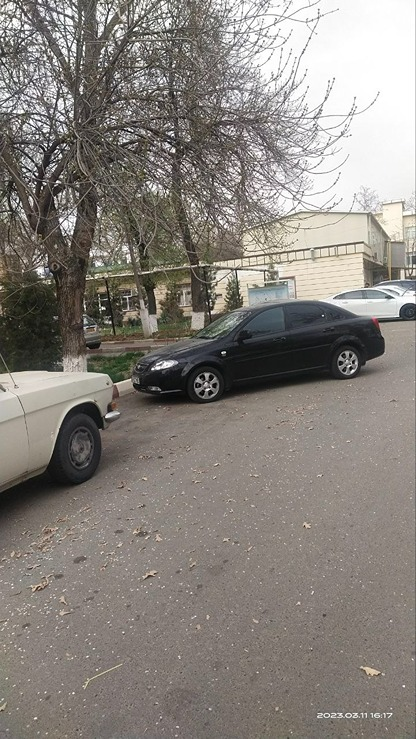car: (126, 308, 387, 402), (0, 338, 122, 524), (318, 282, 416, 323)
tree: (0, 0, 305, 325)
